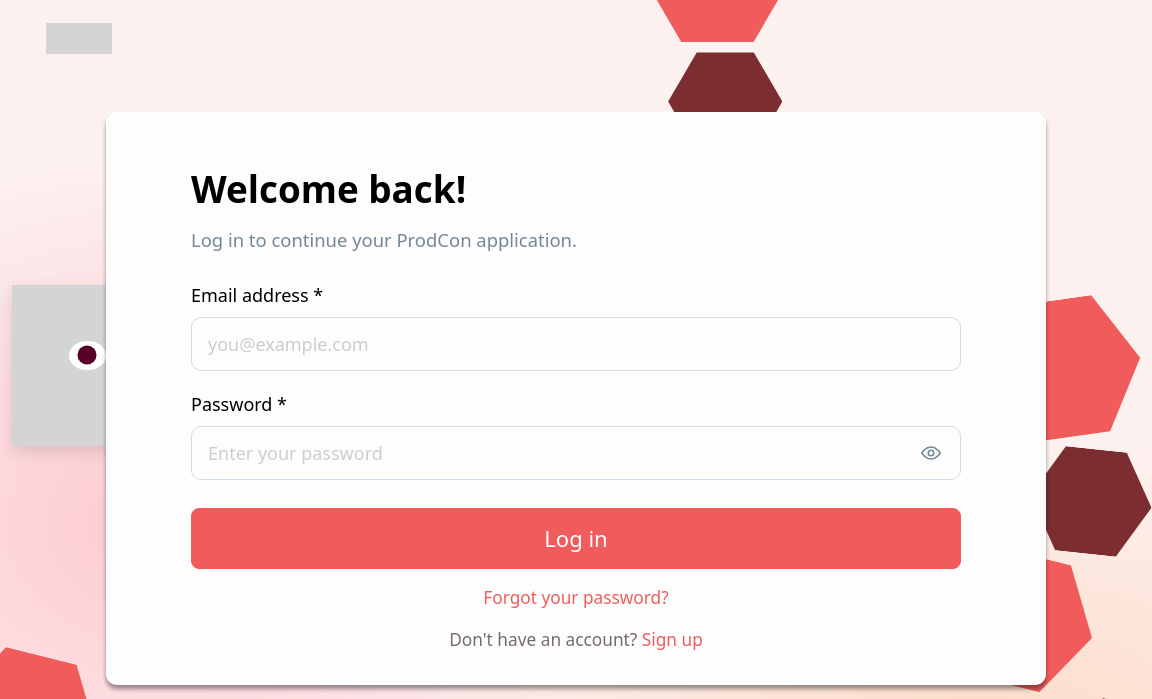
Test: Login page › renders unconfirmed email message and resend confirmation button on email_not_confirmed
The image size is (1152, 699).
Type "unconfirmed@example.com" into the field labelled "Email address *".
click(576, 344); type("unconfirmed@example.com")  # box [191,317,961,371]
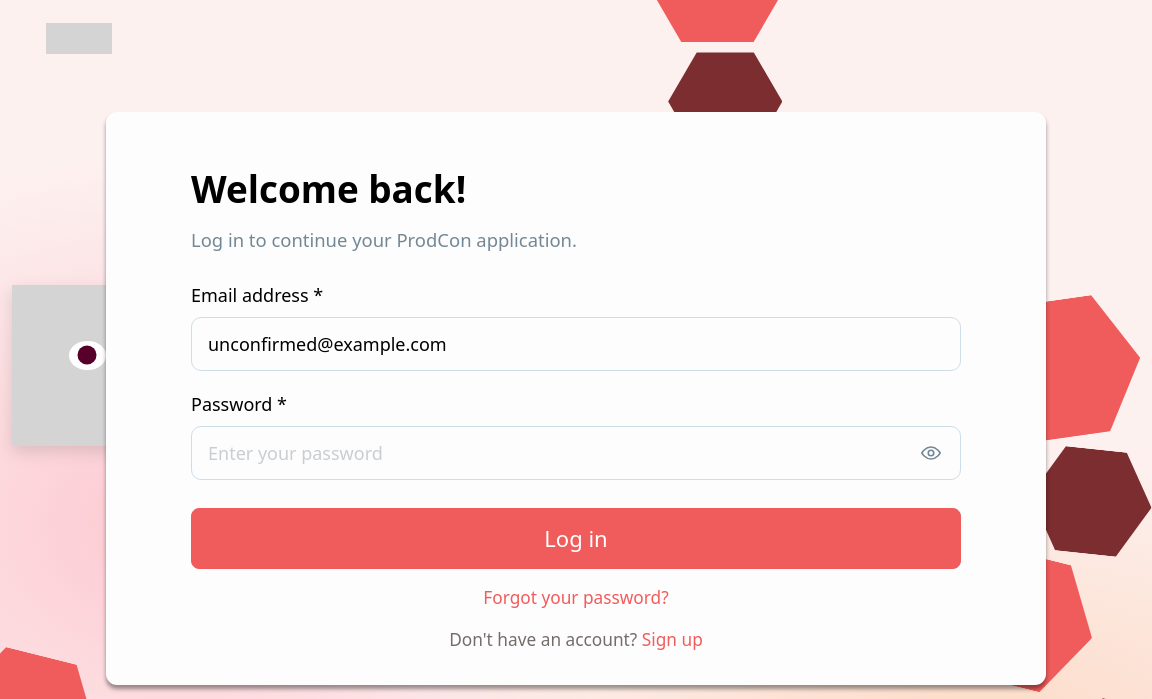
Type "secretPassword123" into the password field labelled "Password *".
click(576, 453); type("secretPassword123")  # box [191,426,961,480]
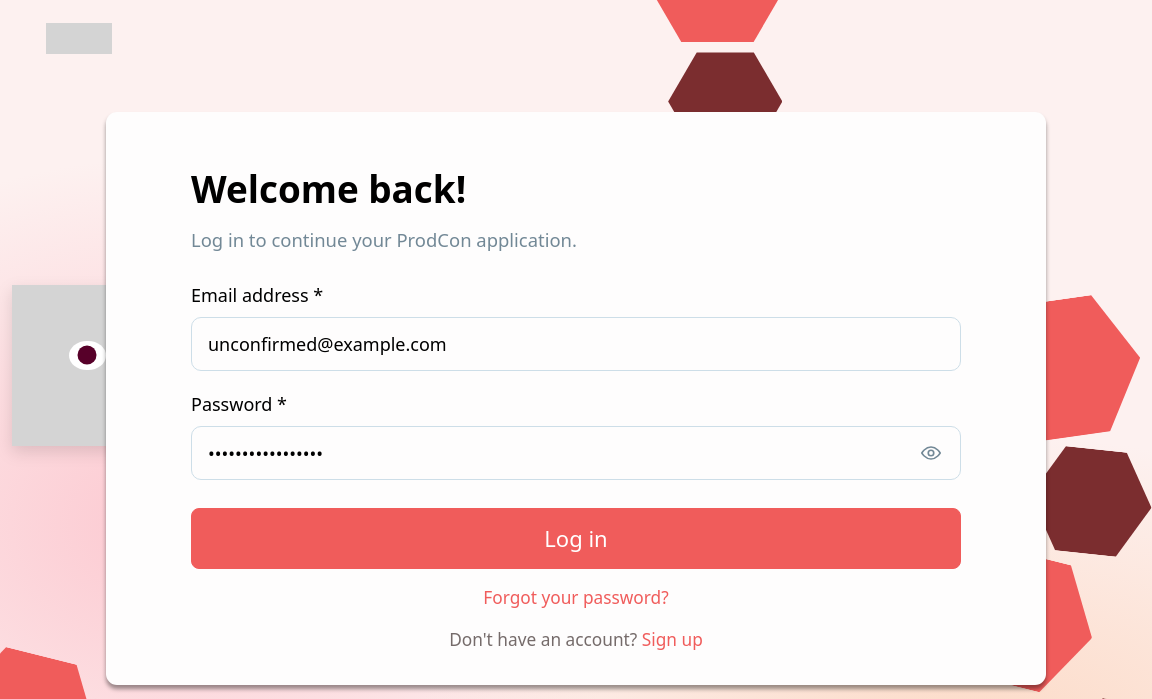
Click the button "Log in".
click(576, 539)  # box [191,508,961,569]
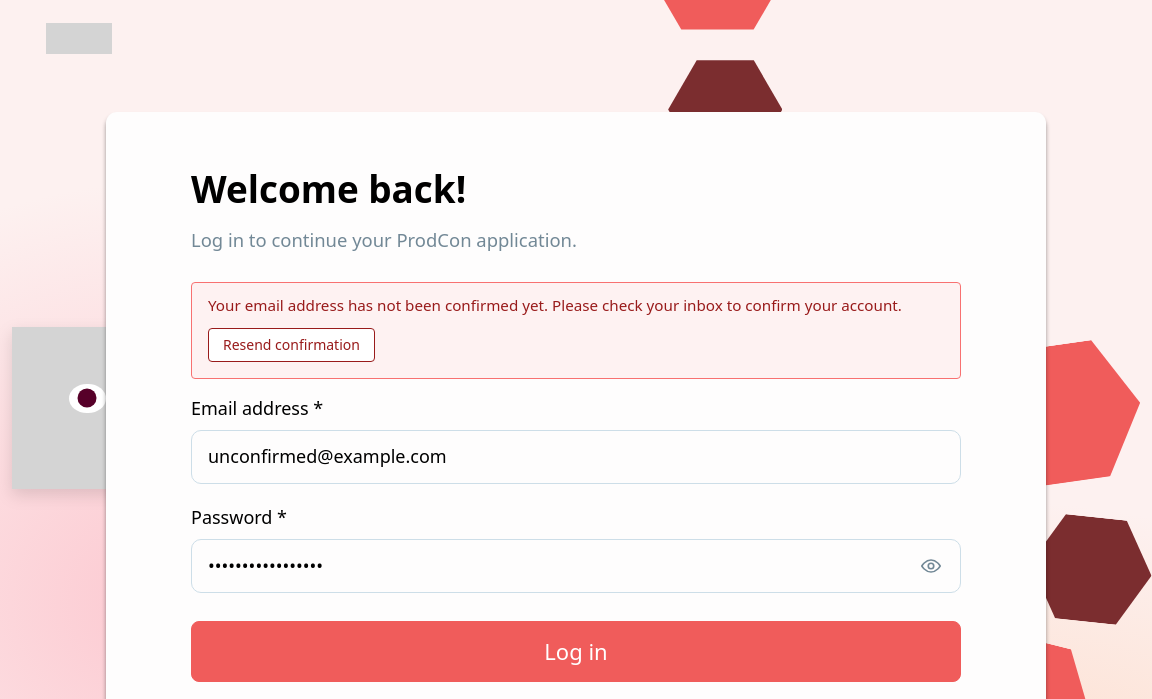
expect the message shows "Your email address has not been confirmed yet.": met, box [208,295,902,315]
expect the button "Resend confirmation" is shown: met, box [208,328,375,362]
